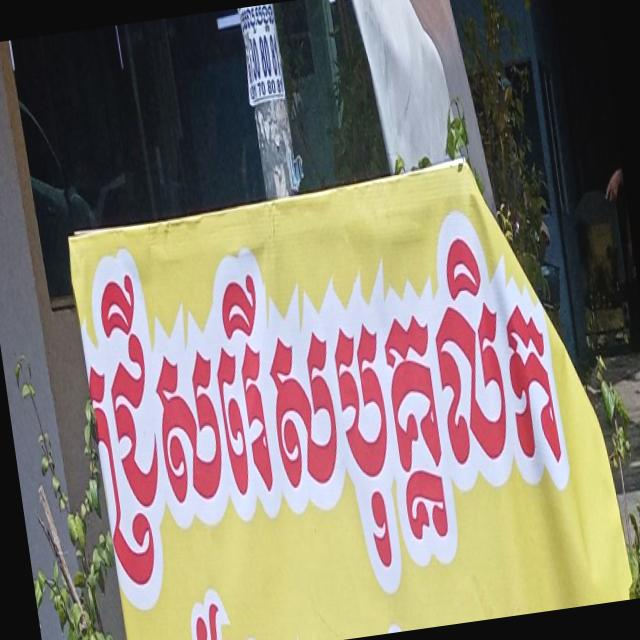Yolov11kh: (71, 196, 605, 604)
